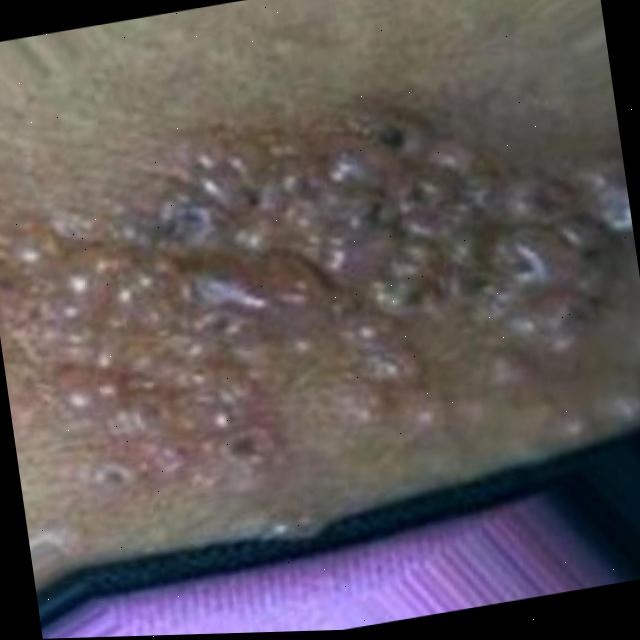Shingles: (46, 68, 640, 516)
